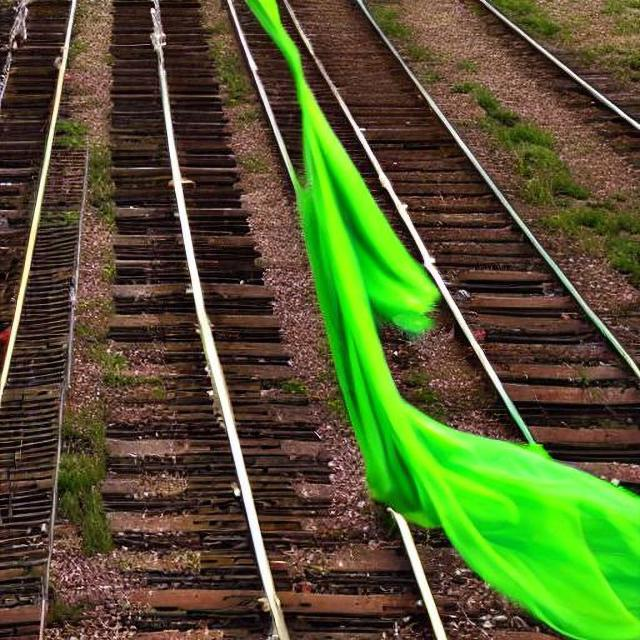floating object: (242, 1, 638, 636)
